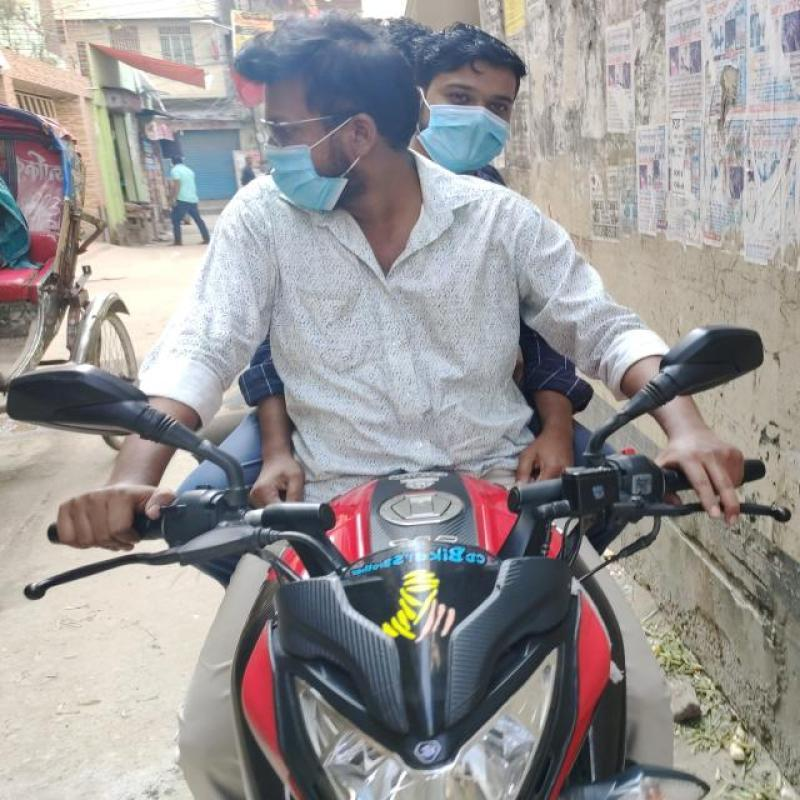nohelmet: (214, 0, 406, 225), (424, 6, 547, 176)
